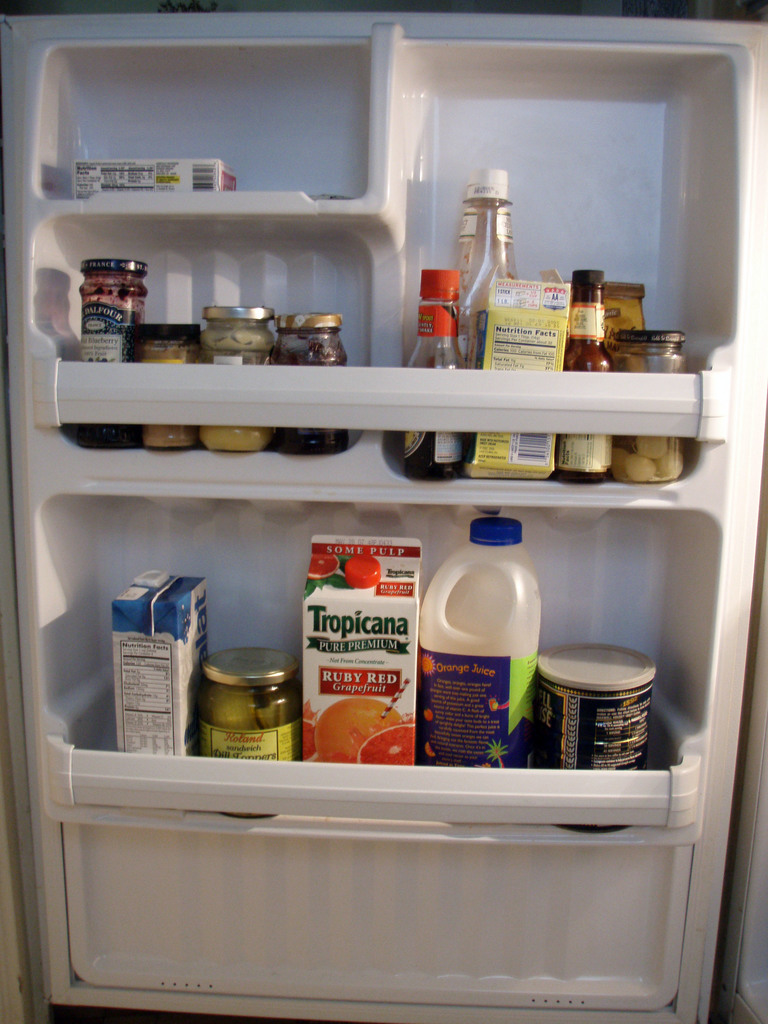Refrigerator: (7, 8, 763, 1021)
